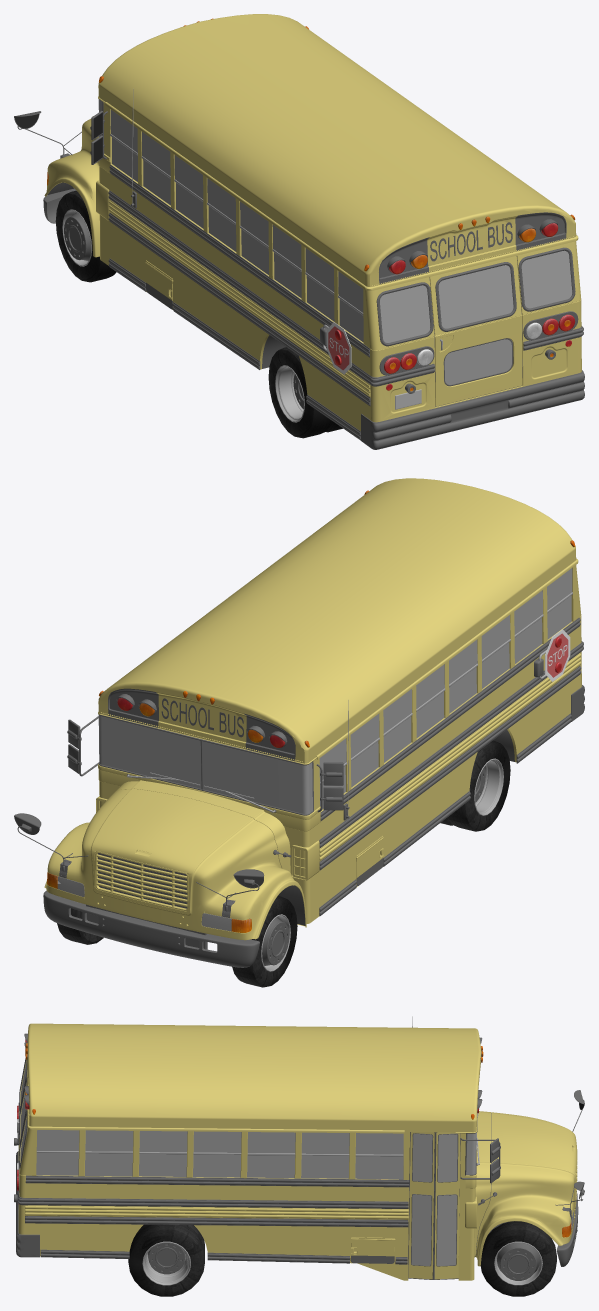
Rendered from school_bus.glb.
The picture shows the model from 3 angles, top to bottom: view 1: azimuth 30°, elevation 25°; view 2: azimuth 150°, elevation 25°; view 3: azimuth 270°, elevation 25°; orthographic projection. The views are drawn at different scales.
Visible parts, largest first — view 1: Archmodels55_11_carpaint, Archmodels55_11_black, Archmodels55_11_glass, Archmodels55_11_tires, Archmodels55_11_rims, Archmodels55_11_red_lights, Archmodels55_11_texts, Archmodels55_11_interior, Archmodels55_11_orange_lights, Archmodels55_11_mirrors, Archmodels55_11_stop_red; view 2: Archmodels55_11_carpaint, Archmodels55_11_black, Archmodels55_11_glass, Archmodels55_11_tires, Archmodels55_11_texts, Archmodels55_11_rims, Archmodels55_11_interior, Archmodels55_11_headlights_glass; view 3: Archmodels55_11_carpaint, Archmodels55_11_glass, Archmodels55_11_black, Archmodels55_11_tires, Archmodels55_11_rims, Archmodels55_11_interior, Archmodels55_11_rims_caps.
Boxes of the visible parts, x1=… form: Archmodels55_11_carpaint: x1=44, y1=14, x2=581, y2=431; Archmodels55_11_black: x1=14, y1=78, x2=584, y2=449; Archmodels55_11_glass: x1=98, y1=99, x2=572, y2=384; Archmodels55_11_tires: x1=55, y1=190, x2=342, y2=438; Archmodels55_11_rims: x1=62, y1=209, x2=304, y2=422; Archmodels55_11_red_lights: x1=384, y1=223, x2=575, y2=393; Archmodels55_11_texts: x1=47, y1=182, x2=512, y2=368; Archmodels55_11_interior: x1=110, y1=89, x2=442, y2=351; Archmodels55_11_orange_lights: x1=99, y1=18, x2=575, y2=391; Archmodels55_11_mirrors: x1=14, y1=112, x2=102, y2=163; Archmodels55_11_stop_red: x1=328, y1=326, x2=349, y2=370; Archmodels55_11_carpaint: x1=44, y1=478, x2=581, y2=940; Archmodels55_11_black: x1=14, y1=543, x2=584, y2=967; Archmodels55_11_glass: x1=98, y1=568, x2=572, y2=813; Archmodels55_11_tires: x1=57, y1=740, x2=510, y2=987; Archmodels55_11_texts: x1=86, y1=698, x2=514, y2=949; Archmodels55_11_rims: x1=261, y1=758, x2=503, y2=971; Archmodels55_11_interior: x1=127, y1=592, x2=572, y2=815; Archmodels55_11_headlights_glass: x1=57, y1=876, x2=231, y2=931; Archmodels55_11_carpaint: x1=18, y1=1023, x2=577, y2=1280; Archmodels55_11_glass: x1=20, y1=1062, x2=476, y2=1265; Archmodels55_11_black: x1=16, y1=1033, x2=584, y2=1279; Archmodels55_11_tires: x1=128, y1=1221, x2=556, y2=1296; Archmodels55_11_rims: x1=142, y1=1241, x2=542, y2=1285; Archmodels55_11_interior: x1=17, y1=1016, x2=479, y2=1165; Archmodels55_11_rims_caps: x1=155, y1=1247, x2=529, y2=1274.
Size of the model in its own units: 3.24 by 3.17 by 7.74.
Materials: 24 (6 with a texture image).
